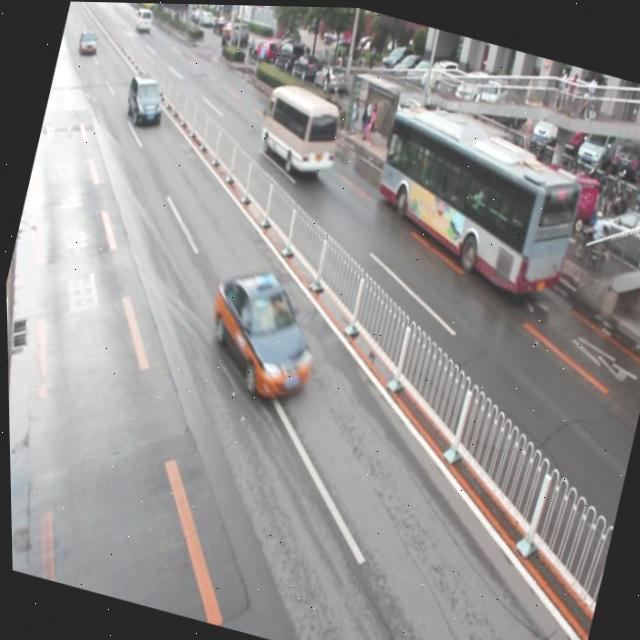car: (192, 257, 329, 404)
truck: (252, 76, 346, 174), (120, 69, 169, 128)
van: (358, 99, 590, 298)
